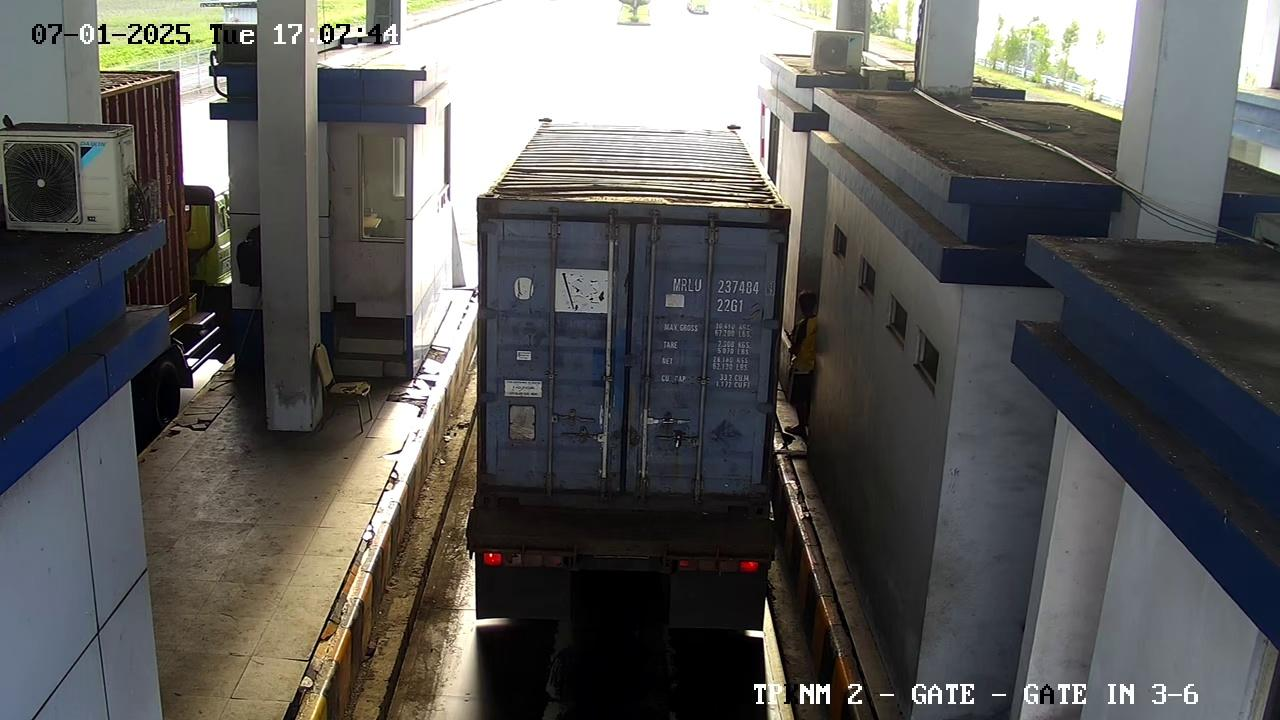Container_ID: (652, 275, 765, 321)
